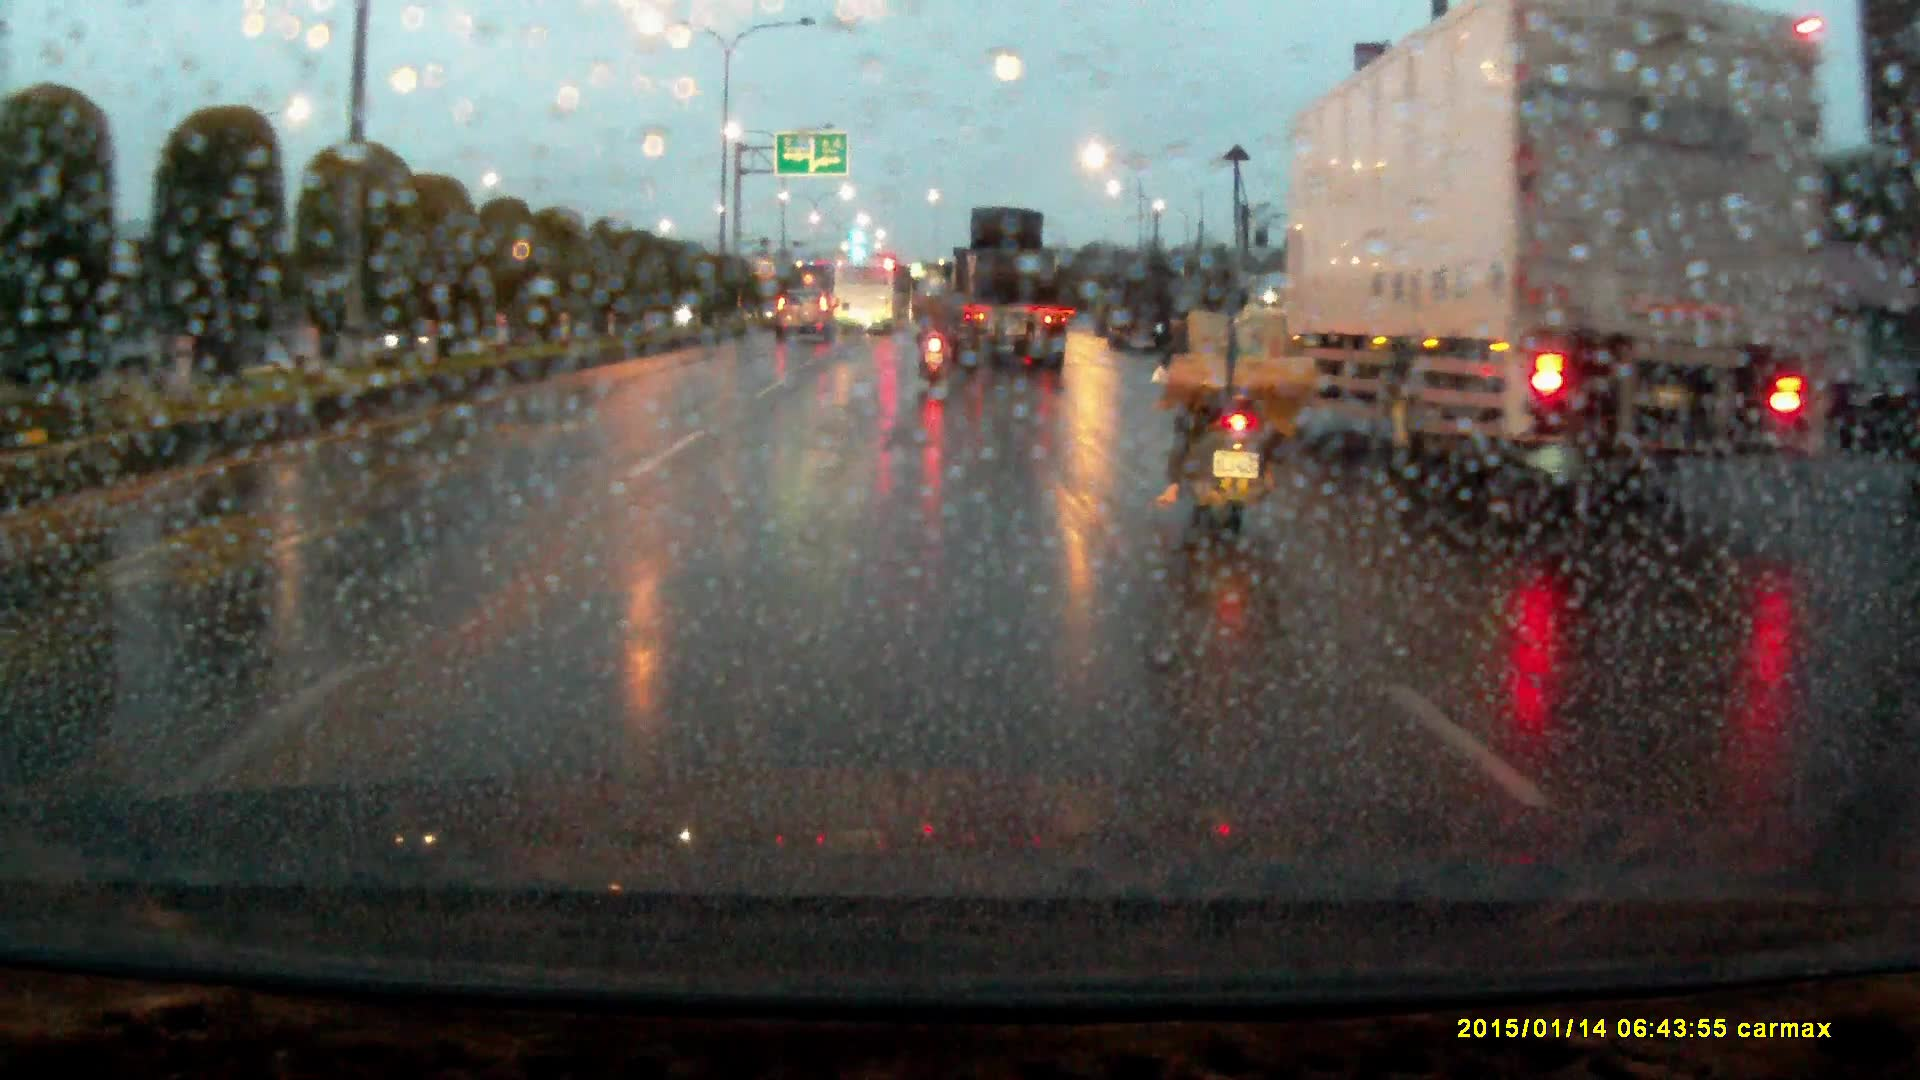rider: (1156, 253, 1328, 560), (913, 288, 955, 389)
vehicle: (1277, 4, 1849, 485), (933, 202, 1066, 369), (831, 262, 898, 337), (775, 281, 837, 343)
